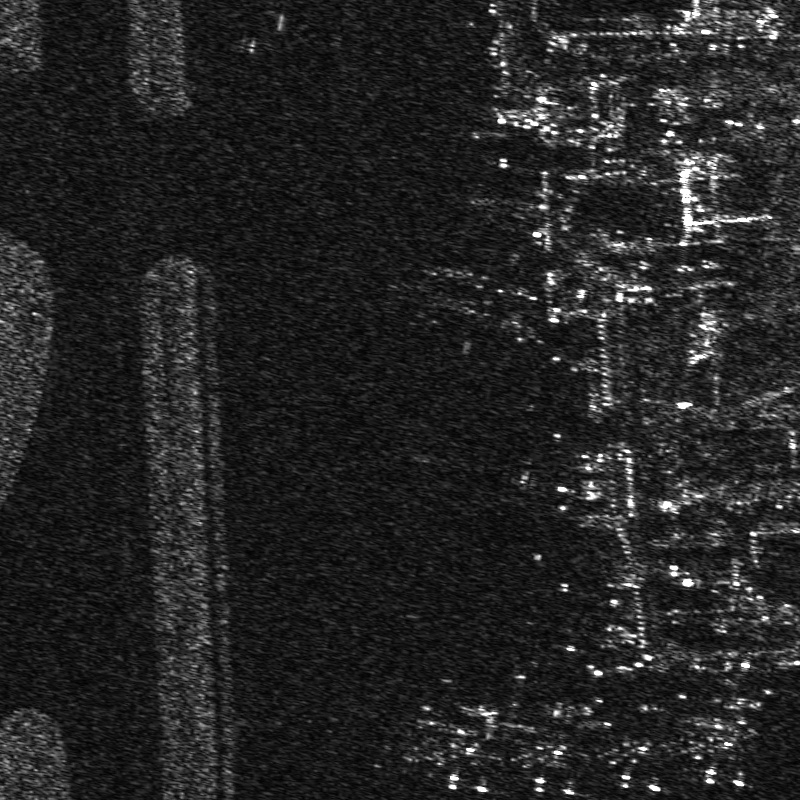A320/321: (432, 702, 504, 794)
Boeing737: (507, 706, 591, 796), (597, 702, 676, 793)
other: (679, 696, 762, 791)
